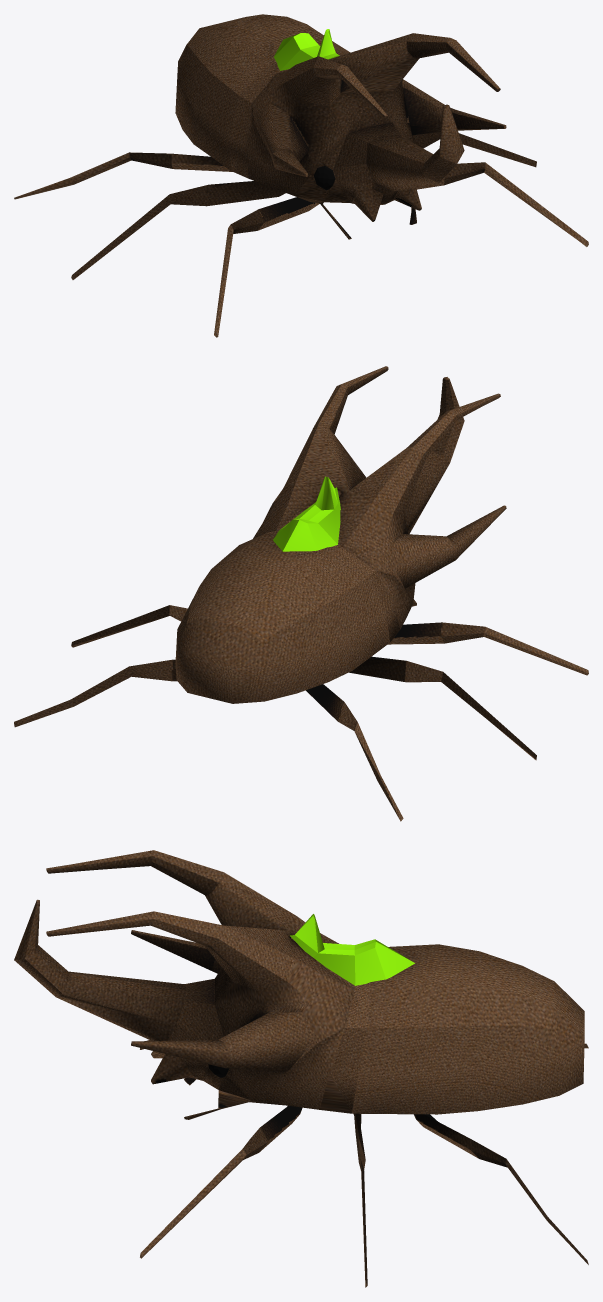
File: beetle.fbx
3 renders of one model, top to bottom at view 1: azimuth 30°, elevation 25°; view 2: azimuth 150°, elevation 25°; view 3: azimuth 270°, elevation 25°, orthographic. The views are drawn at different scales.
Visible parts, largest first — view 1: body2; view 2: body2; view 3: body2.
Boxes of the visible parts, x1,y1,x2,y2 form: body2: [14, 14, 588, 337]; body2: [14, 366, 588, 821]; body2: [14, 850, 588, 1287].
Bounding box in the file's own units: 46.41 × 22.87 × 43.08.
2 materials, 2 textured.
